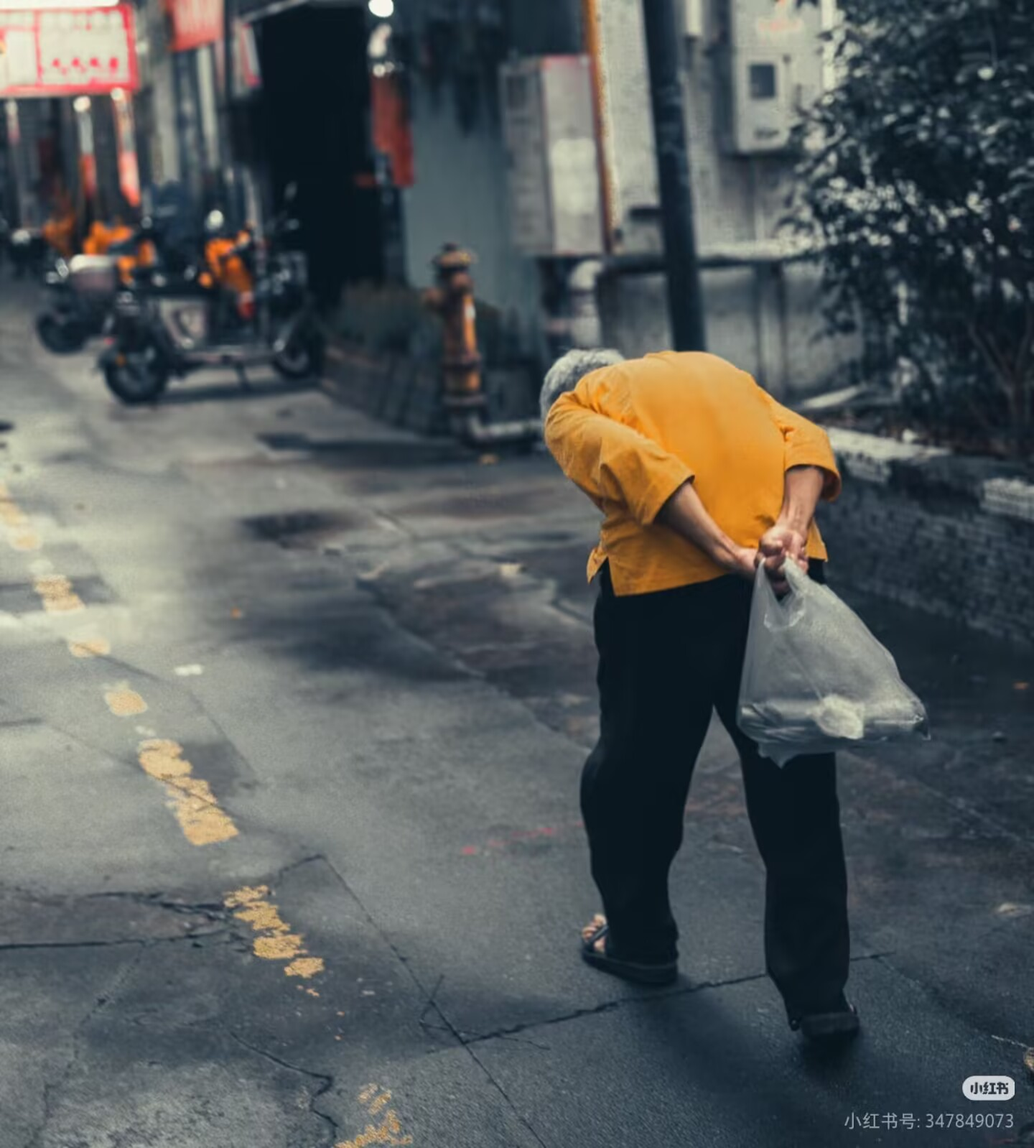bending: (484, 320, 912, 1074)
